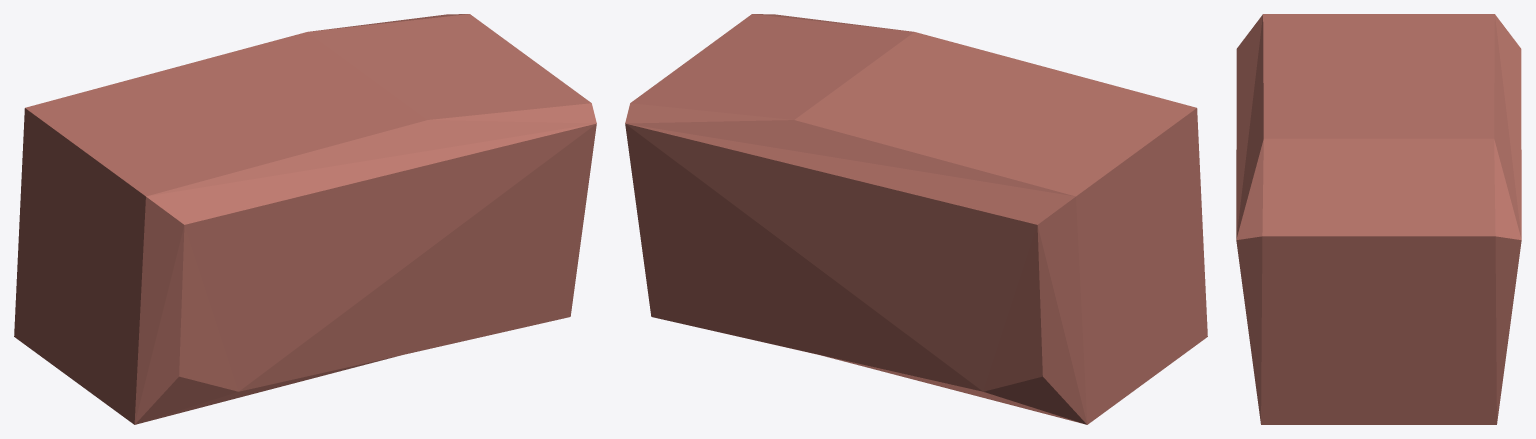
The model's file is Brick.FBX.
The picture shows the model from 3 angles, left to right: view 1: azimuth 30°, elevation 25°; view 2: azimuth 150°, elevation 25°; view 3: azimuth 270°, elevation 25°; orthographic projection. The views are drawn at different scales.
Visible parts, largest first — view 1: SM_Prop_Brick_02; view 2: SM_Prop_Brick_02; view 3: SM_Prop_Brick_02.
Part boxes in pixels (bbox=[...]): SM_Prop_Brick_02: bbox=[14, 14, 596, 424]; SM_Prop_Brick_02: bbox=[625, 14, 1207, 424]; SM_Prop_Brick_02: bbox=[1236, 14, 1521, 424].
Size of the model in its own units: 2.5 by 1.22 by 1.41.
